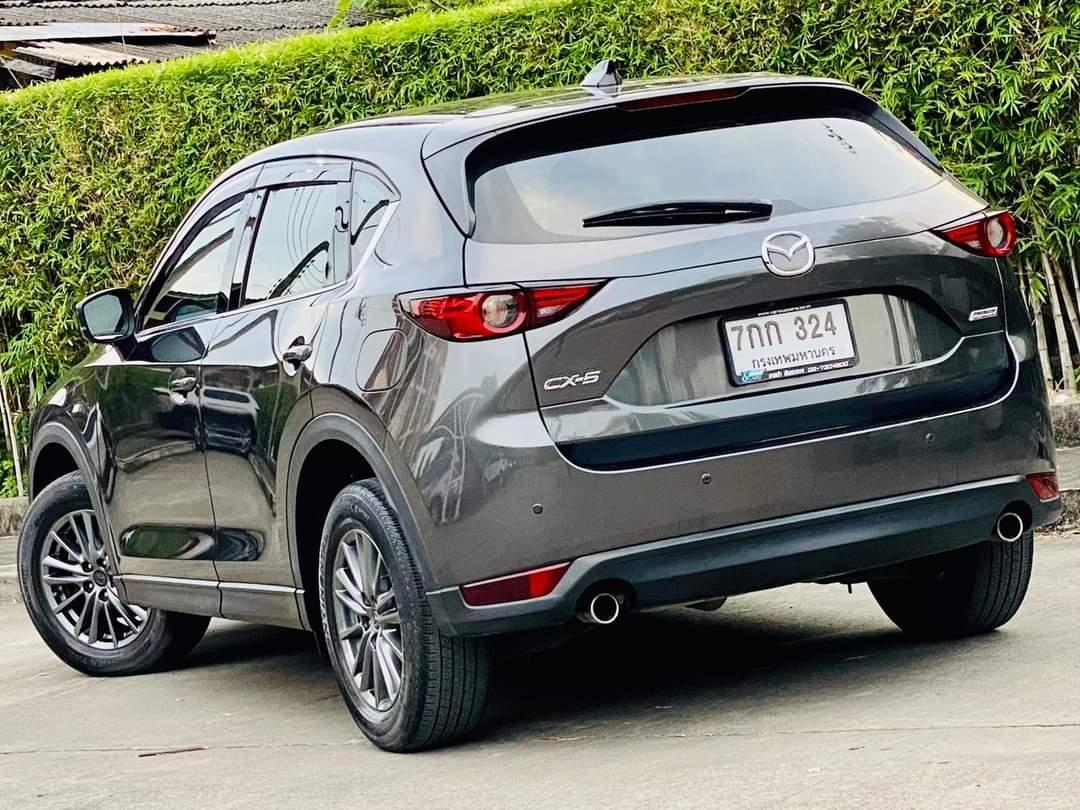license-plate: (717, 292, 858, 391)
